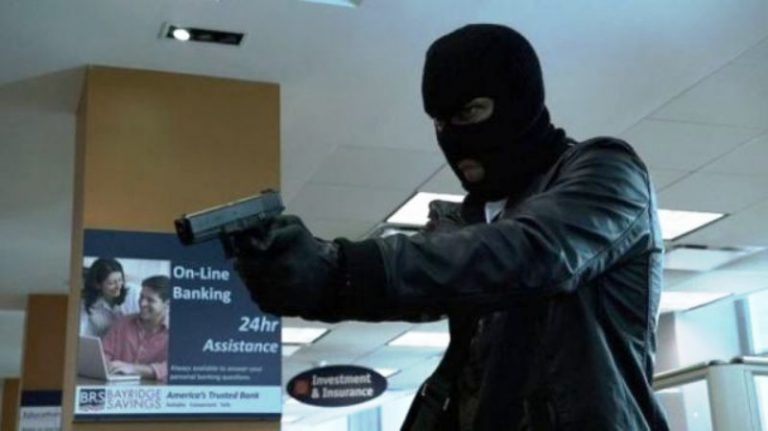gun: (159, 180, 319, 252)
